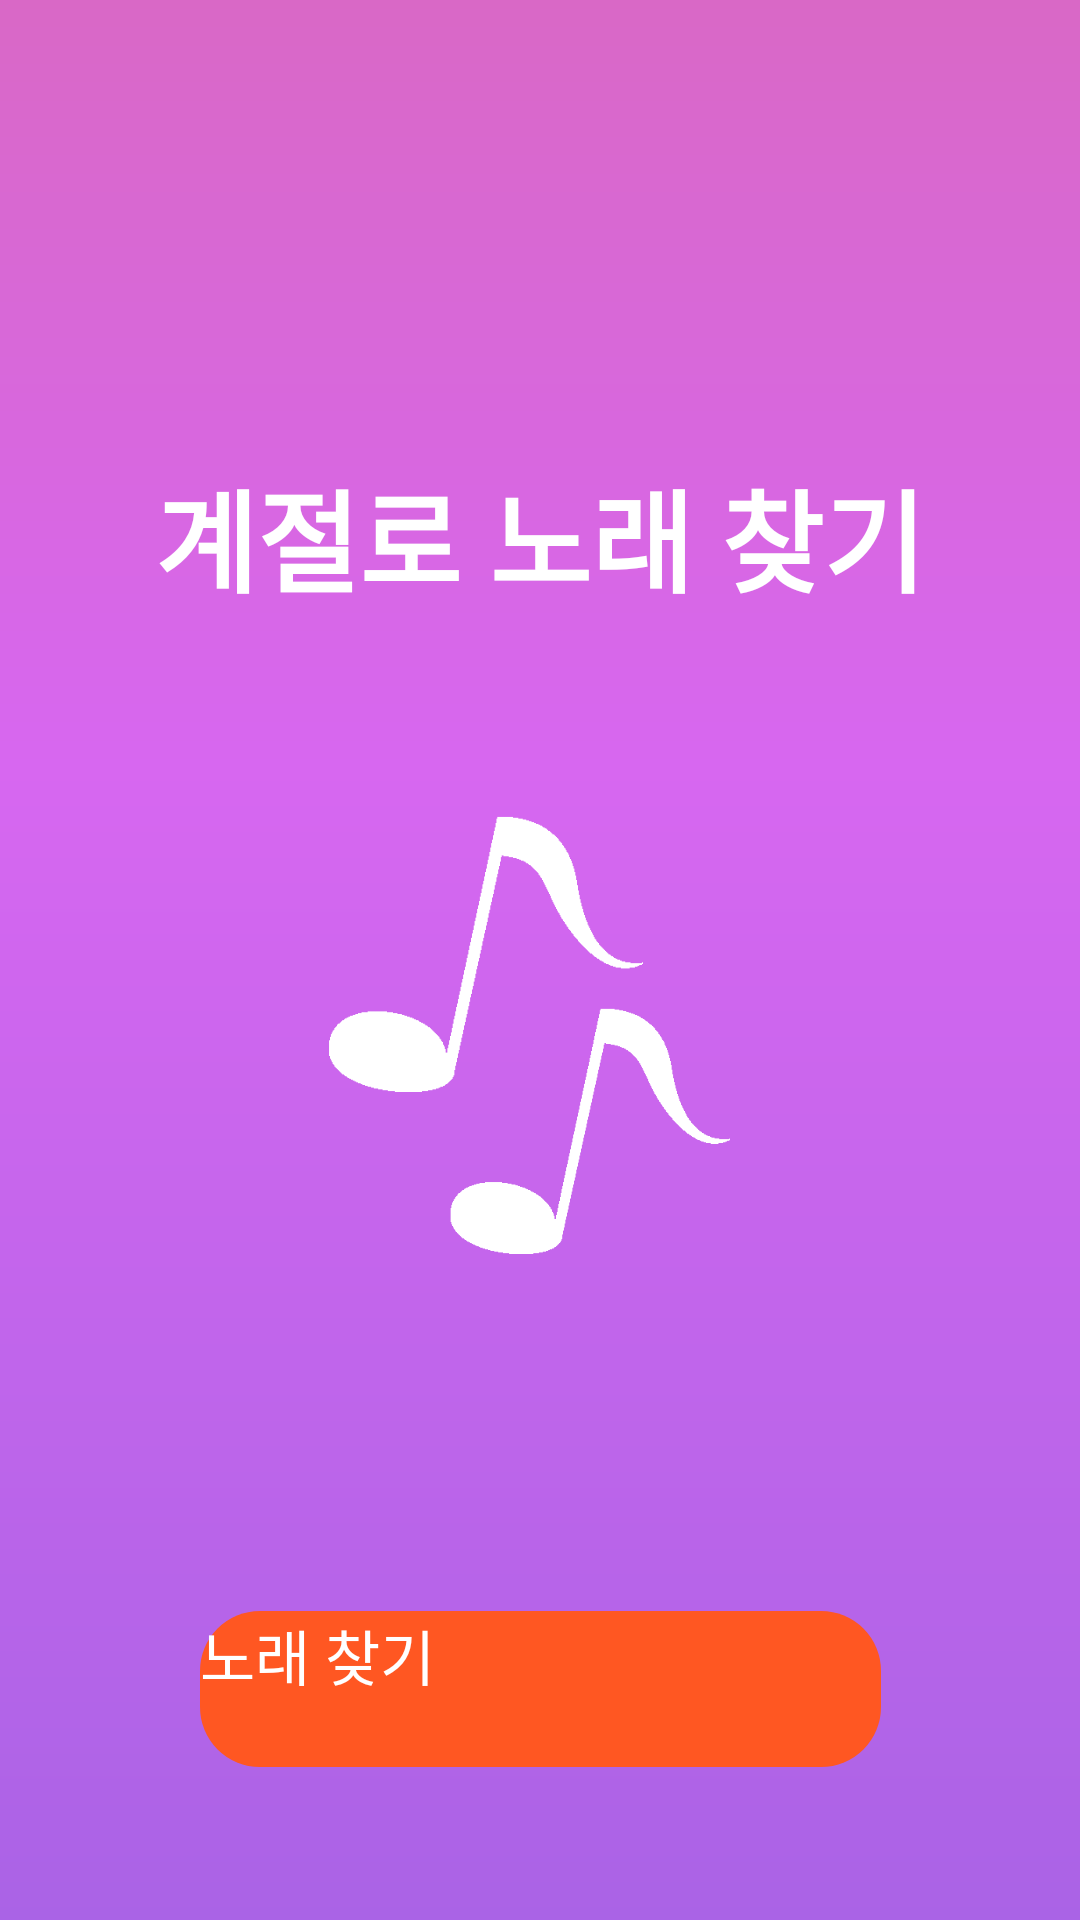

Named icons in this screenshot (1080 x 1920) and their centers, point (x, y):
music note: point (486, 954), point (590, 1131)
